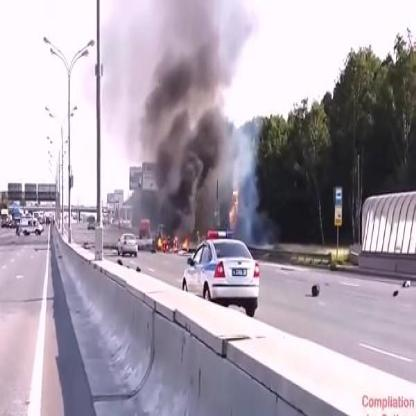fire: (157, 233, 190, 254), (228, 186, 240, 225)
